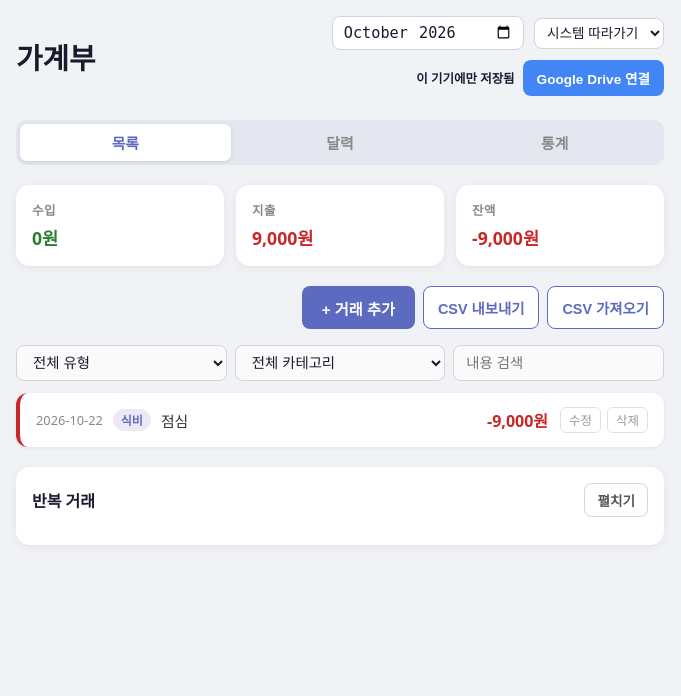
Test: (viii) 비로그인 거래 수정이 같은 id 로 localStorage 에 반영된다
The width and height of the screenshot is (681, 696).
Click the button with aria-label "수정: 점심".
click(581, 420)  # box [560, 407, 601, 433]
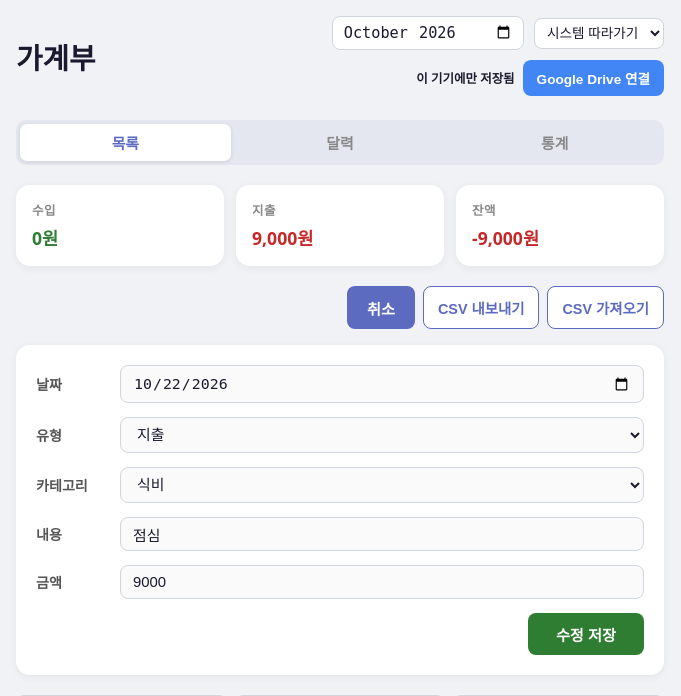
Replace the text in the field with placeholder "거래 내용을 입력하세요" next to "내용" with "저녁" at (382, 534), box [120, 517, 644, 551]
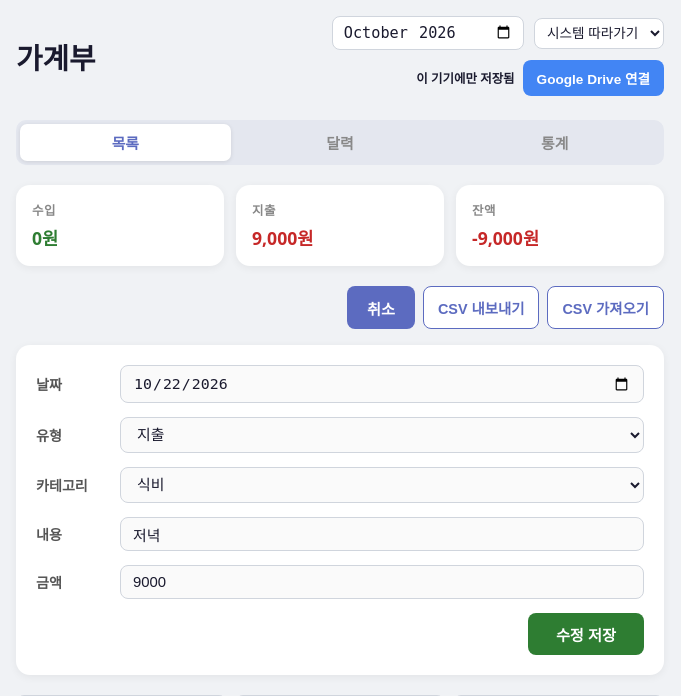
Replace the text in the number field with placeholder "금액 (원)" with "12000" at (382, 582), box [120, 565, 644, 599]
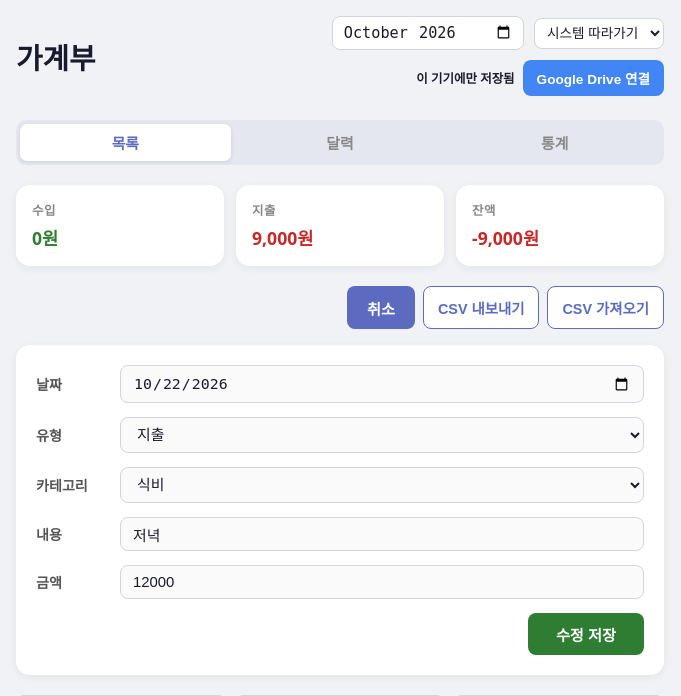
Click the button "수정 저장".
click(586, 634)  # box [528, 613, 644, 655]
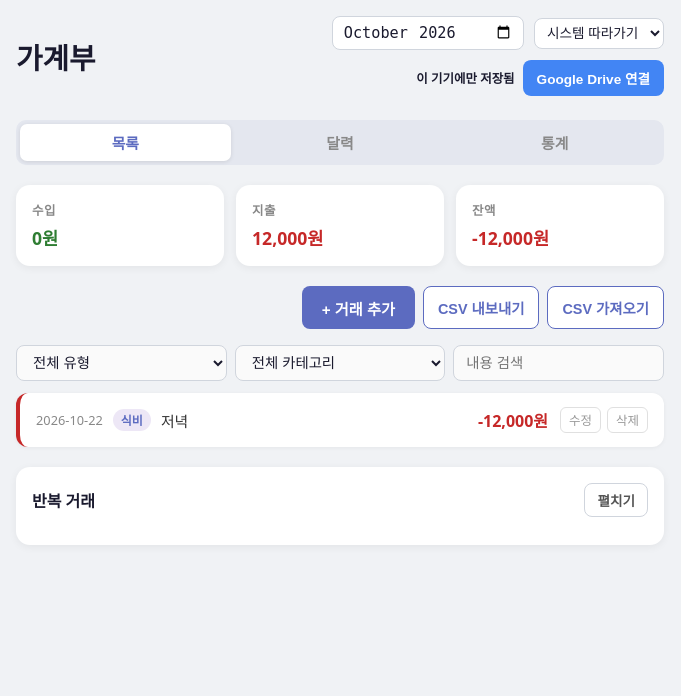
expect the text "저녁" is shown: met, box [161, 410, 188, 430]
